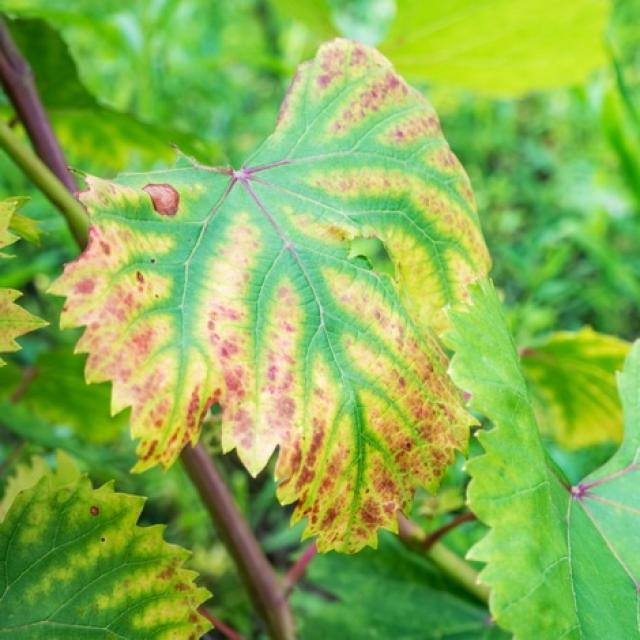Chlorosis: (74, 54, 498, 568)
